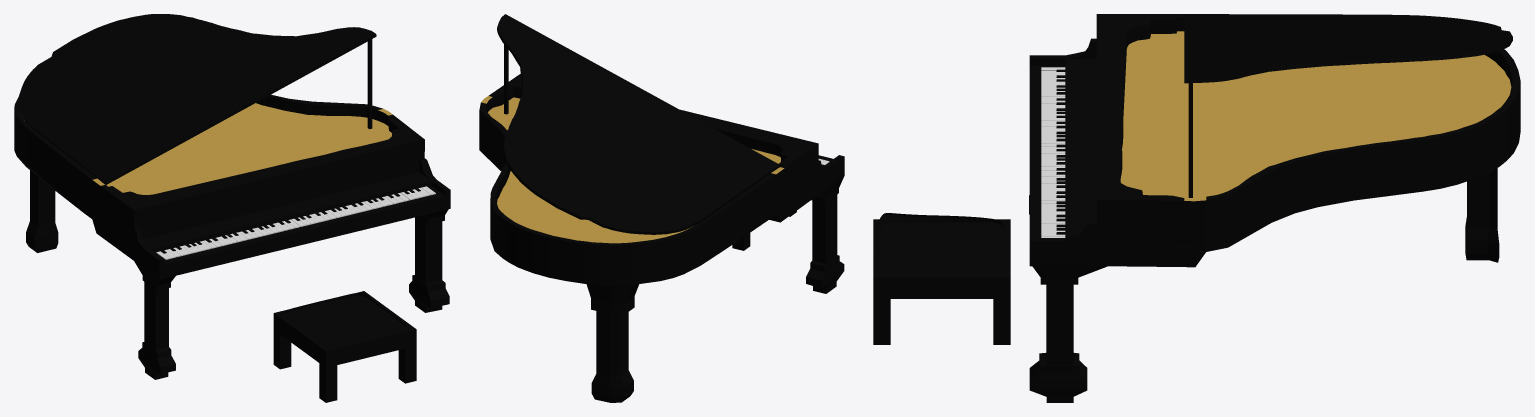
File: uploads_files_3873282_piano.fbx
The picture shows the model from 3 angles, left to right: view 1: azimuth 30°, elevation 25°; view 2: azimuth 150°, elevation 25°; view 3: azimuth 270°, elevation 25°; orthographic projection. The views are drawn at different scales.
Parts seen in each view (by area): view 1: Cube, Cube.001, Cube.093, Cube.002; view 2: Cube.001, Cube, Cube.002; view 3: Cube, Cube.001, Cube.093, Cube.094, Cube.002.
Part boxes in pixels (bbox=[...]): Cube: bbox=[14, 94, 450, 379]; Cube.001: bbox=[18, 14, 376, 184]; Cube.093: bbox=[273, 291, 416, 402]; Cube.002: bbox=[367, 39, 372, 129]; Cube.001: bbox=[497, 14, 780, 234]; Cube: bbox=[479, 73, 844, 402]; Cube.002: bbox=[504, 44, 508, 114]; Cube: bbox=[1029, 14, 1520, 402]; Cube.001: bbox=[1184, 14, 1512, 83]; Cube.093: bbox=[873, 219, 1010, 344]; Cube.094: bbox=[875, 213, 1004, 255]; Cube.002: bbox=[1188, 83, 1192, 197].
Size of the model in its own units: 354 by 279 by 517.
